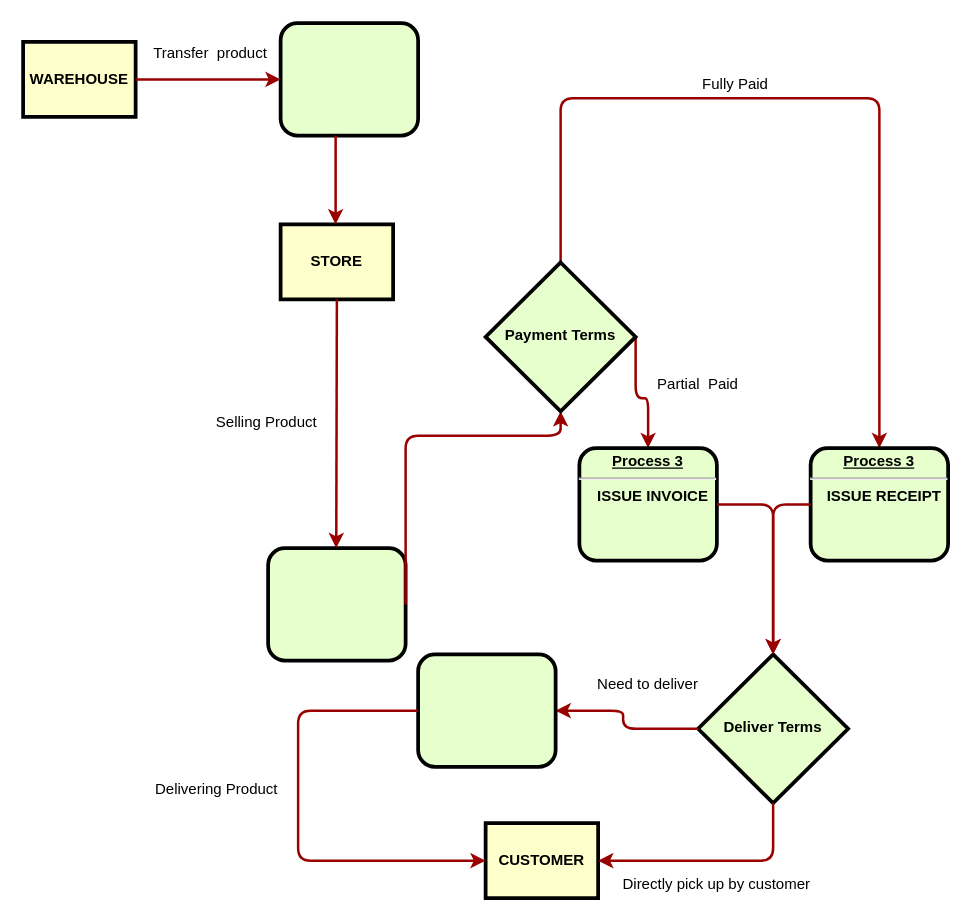
Image size: 971x921. Some labels were removed from this diagram. The shapes that lost their labels are listed below. From the top down, each one's box as (x1, y1, x2, y2) in pixels, then its label:
(278, 21, 419, 137): Process 1 ISSUE DO TO STORE
(266, 546, 407, 662): Process 2 SELLING PRODUCT
(416, 652, 557, 768): Process 4 ISSUE DO TO CUSTOMER
